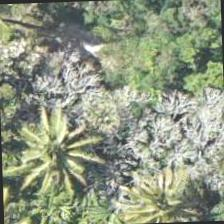Kelapa_Sawit: (3, 108, 96, 200), (118, 152, 210, 224)
